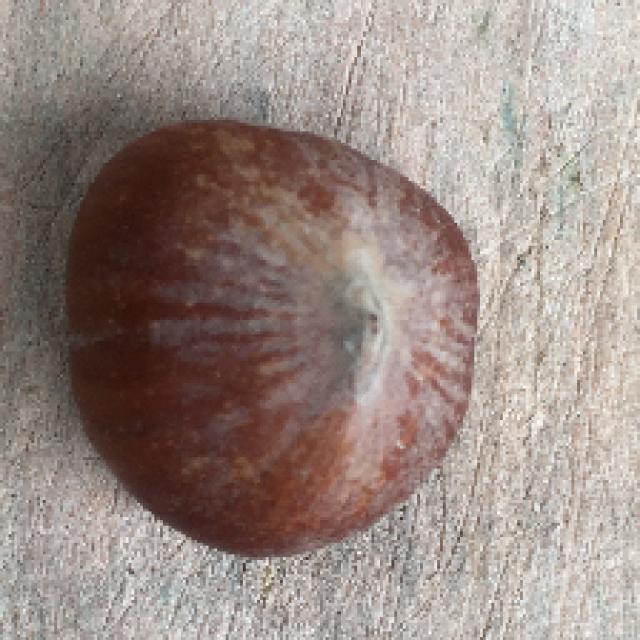qualityHazelnut: (66, 118, 478, 562)
